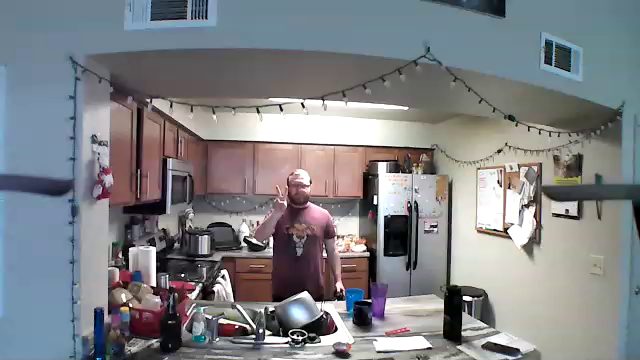peace: (270, 181, 292, 220)
